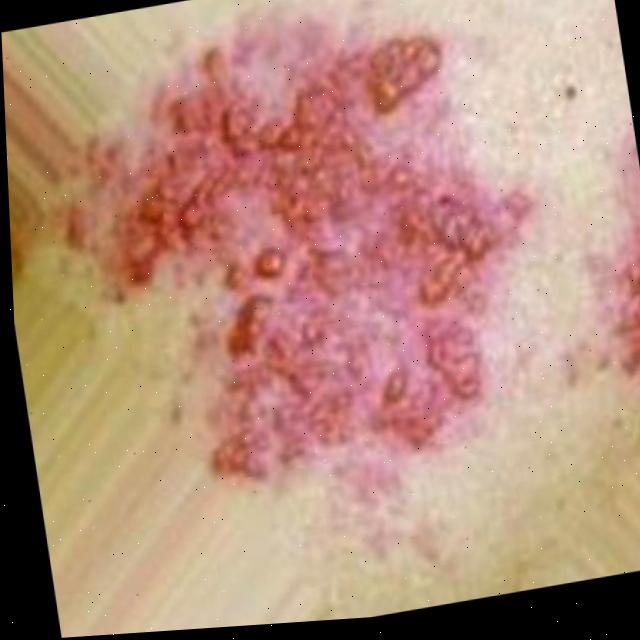Shingles: (42, 0, 566, 506), (603, 246, 640, 413)
